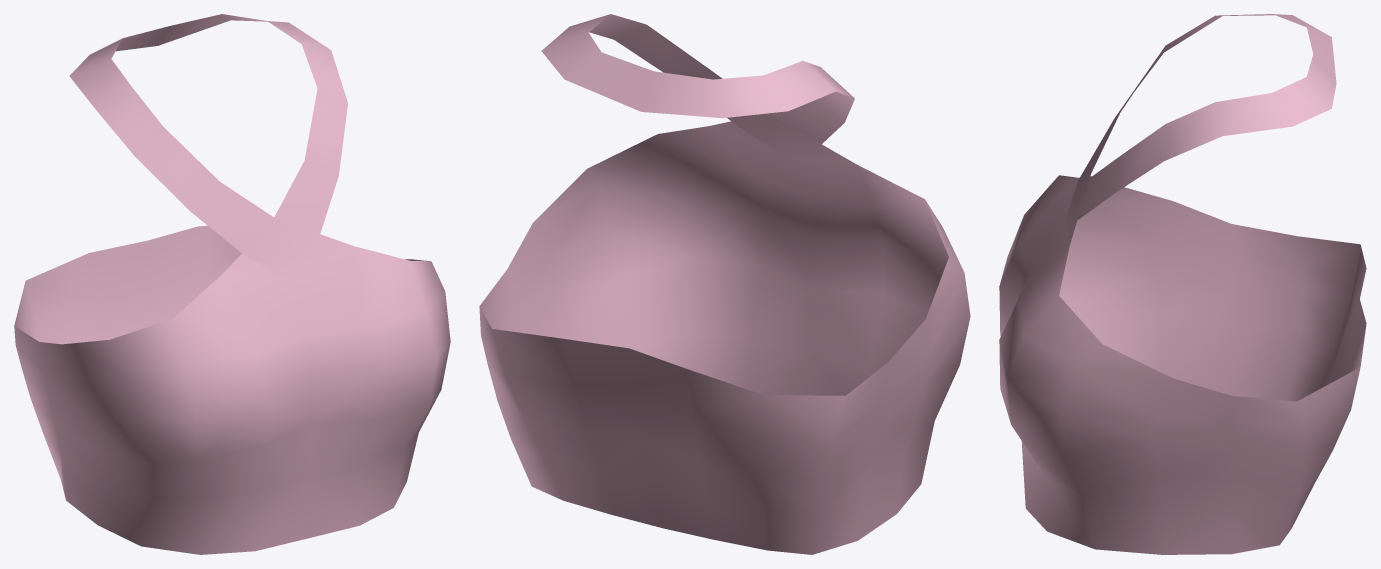
File: blouse_03.glb
3 views of the same model, side by side, from view 1: azimuth 30°, elevation 25°; view 2: azimuth 150°, elevation 25°; view 3: azimuth 270°, elevation 25° (orthographic). The views are drawn at different scales.
Visible parts, largest first — view 1: blouse_03; view 2: blouse_03; view 3: blouse_03.
Part boxes in pixels (x1,y1,x2,y2): blouse_03: (14,14,450,554); blouse_03: (479,14,970,554); blouse_03: (999,14,1366,554).
Bounding box in the file's own units: 0.2752 × 0.3117 × 0.2409.
